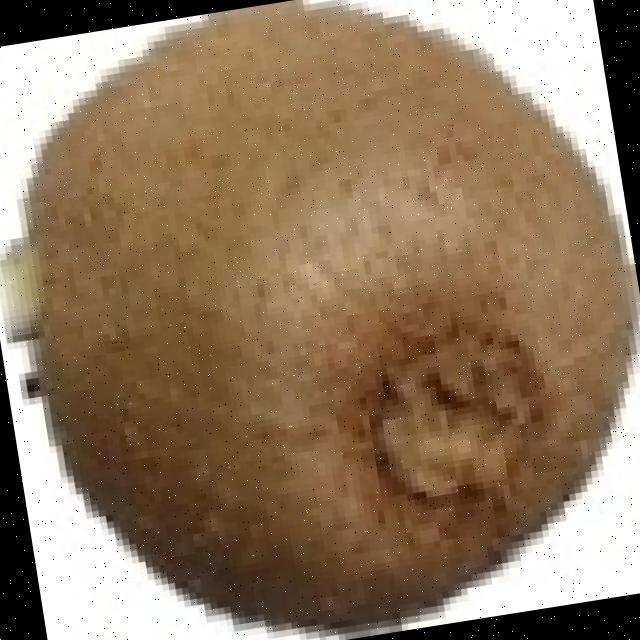kiwi: (11, 0, 640, 614), (51, 575, 118, 640)
